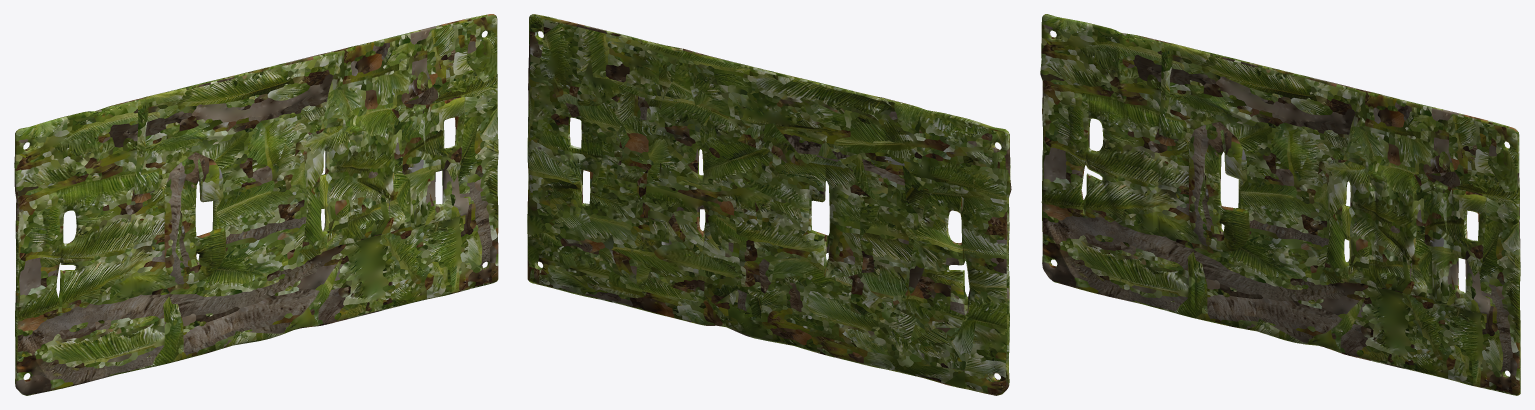
File: Recycle_gaoshipai.fbx
3 renders of one model, left to right at view 1: azimuth 30°, elevation 25°; view 2: azimuth 150°, elevation 25°; view 3: azimuth 330°, elevation 25°, orthographic.
Parts seen in each view (by area): view 1: mesh_node; view 2: mesh_node; view 3: mesh_node.
Part boxes in pixels (bbox=[...]): mesh_node: bbox=[14, 14, 498, 395]; mesh_node: bbox=[527, 14, 1011, 395]; mesh_node: bbox=[1040, 14, 1520, 395].
Bounding box in the file's own units: 1.98 × 1.06 × 0.0259.
